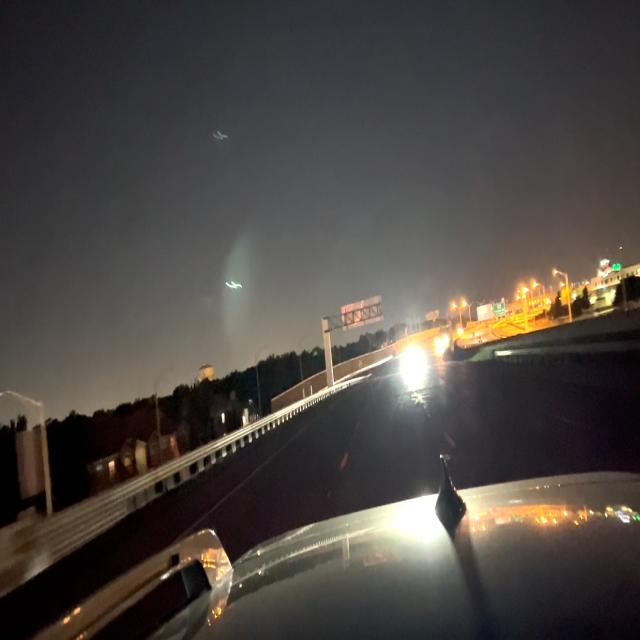back-of-sign: (340, 295, 384, 332)
